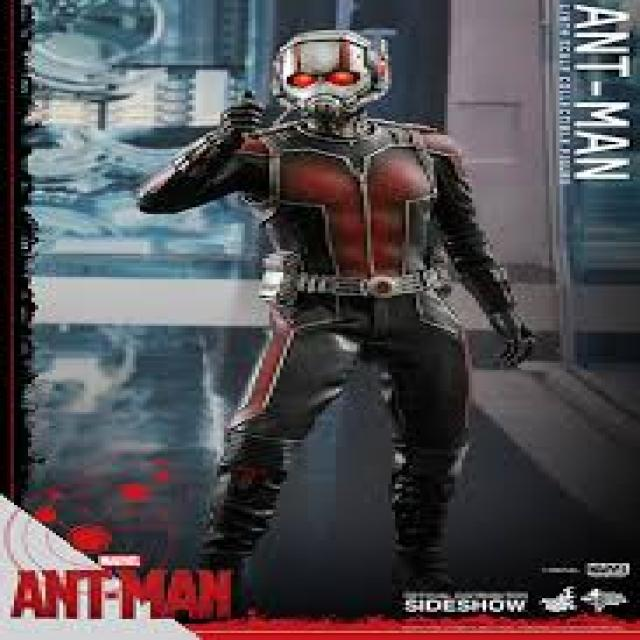Object-Detection: (31, 0, 633, 561)
